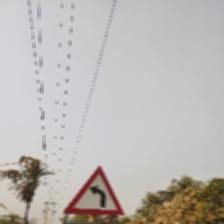Left-Turn: (62, 165, 133, 224)
